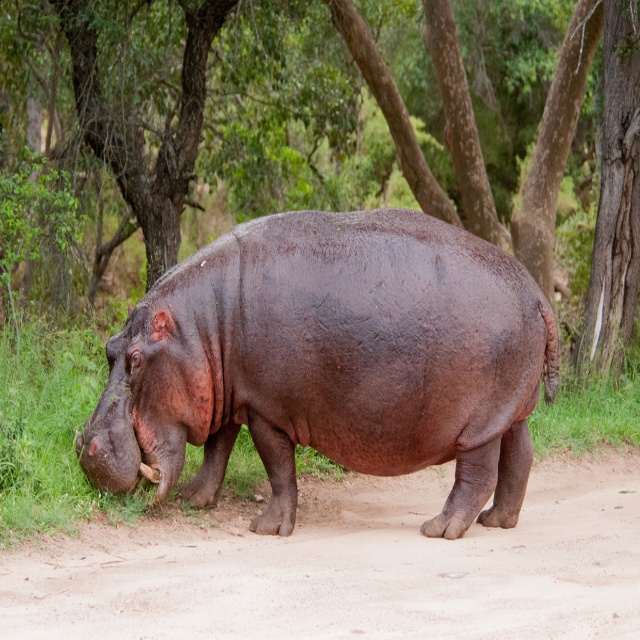Hippopotamus: (76, 207, 558, 540)
